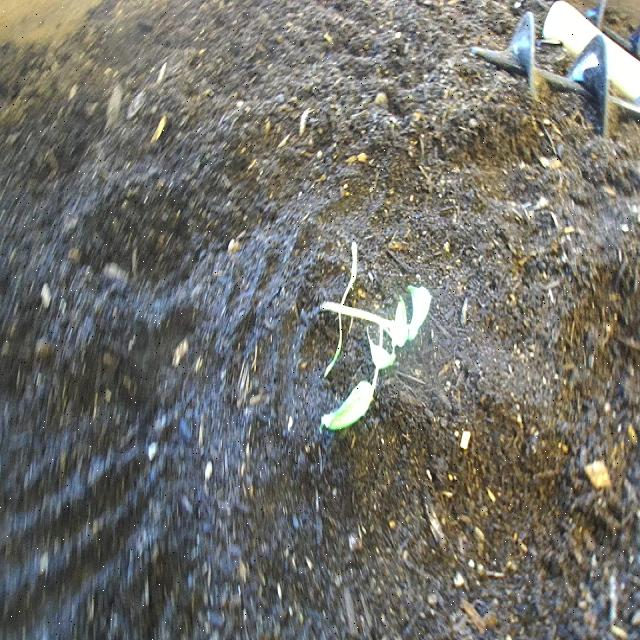Unhealthy: (301, 220, 439, 440)
